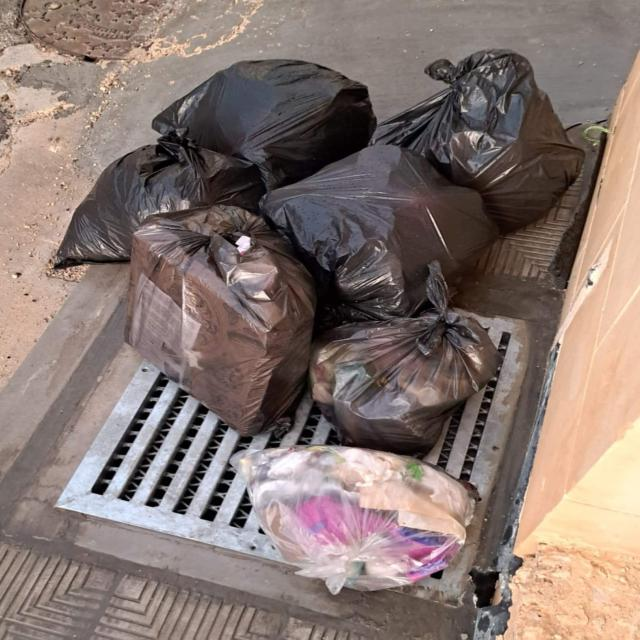Mixed Waste -Black Bag-: (125, 201, 319, 440), (263, 142, 494, 321), (373, 51, 588, 235), (310, 264, 505, 453), (150, 59, 382, 188), (61, 127, 265, 267)
Organic Waste -White Bag-: (231, 447, 478, 596)
